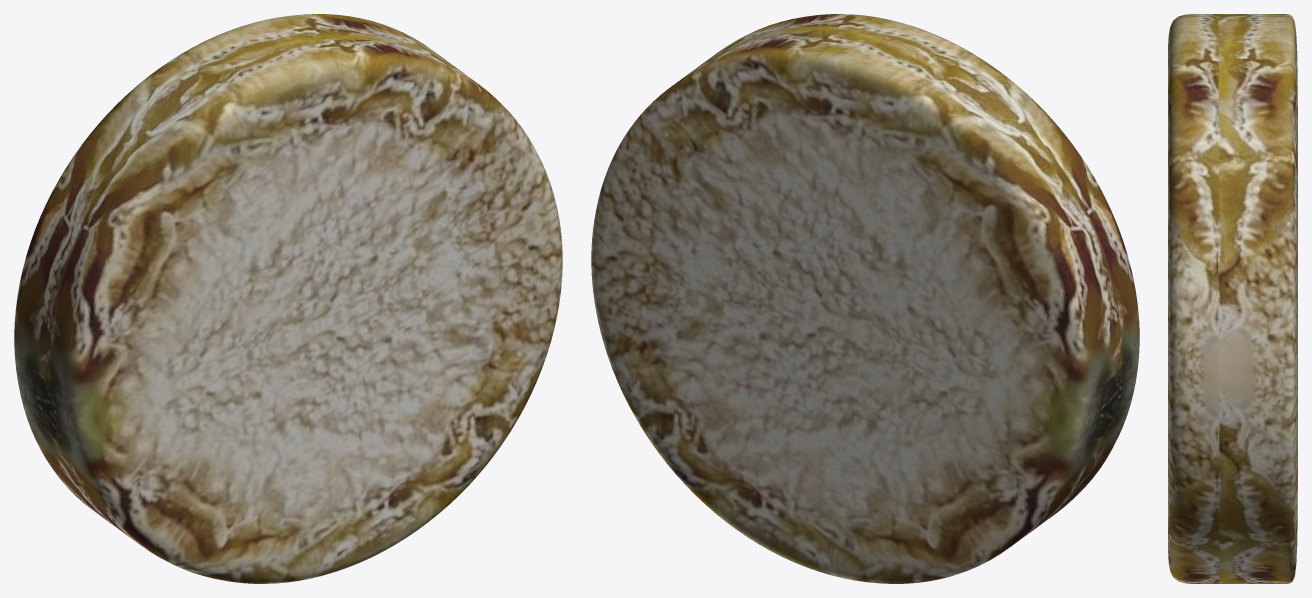
File: PineappleFruitPeduncle.obj
The picture shows the model from 3 angles, left to right: view 1: azimuth 30°, elevation 25°; view 2: azimuth 150°, elevation 25°; view 3: azimuth 270°, elevation 25°; orthographic projection.
Visible parts, largest first — view 1: PineappleFruitPeduncle; view 2: PineappleFruitPeduncle; view 3: PineappleFruitPeduncle.
Part boxes in pixels (bbox=[...]): PineappleFruitPeduncle: bbox=[14, 14, 562, 583]; PineappleFruitPeduncle: bbox=[591, 14, 1139, 583]; PineappleFruitPeduncle: bbox=[1168, 14, 1297, 583].
Size of the model in its own units: 0.0491 by 0.0491 by 0.0112.
Materials: 1 (1 with a texture image).
